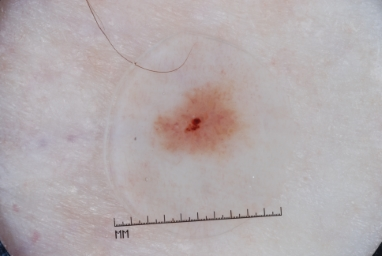seborrheic keratosis: (134, 81, 256, 177)
